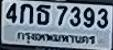letters: (35, 4, 52, 27), (19, 3, 35, 25), (5, 2, 18, 24), (69, 6, 82, 28), (83, 7, 96, 29), (96, 8, 109, 29), (56, 5, 68, 27)
province: (17, 31, 96, 46)
